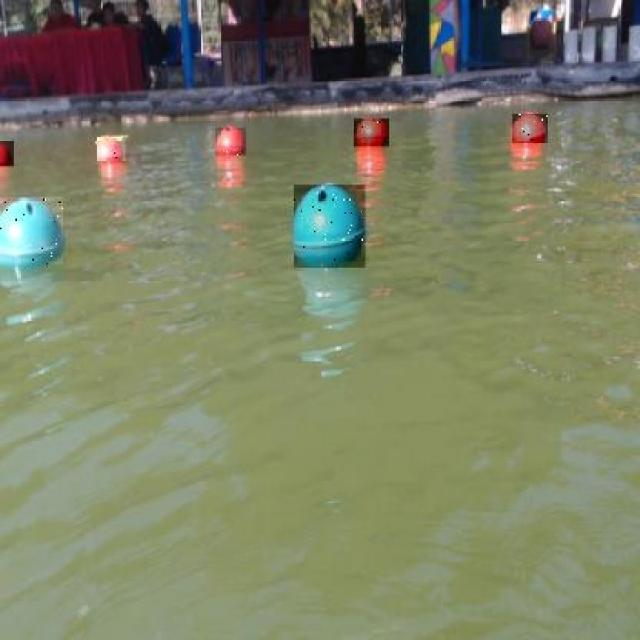green_ball: (293, 183, 365, 266), (0, 196, 63, 266)
red_ball: (213, 126, 246, 158), (510, 114, 546, 143), (353, 118, 388, 146), (96, 138, 124, 162), (0, 138, 15, 164)
